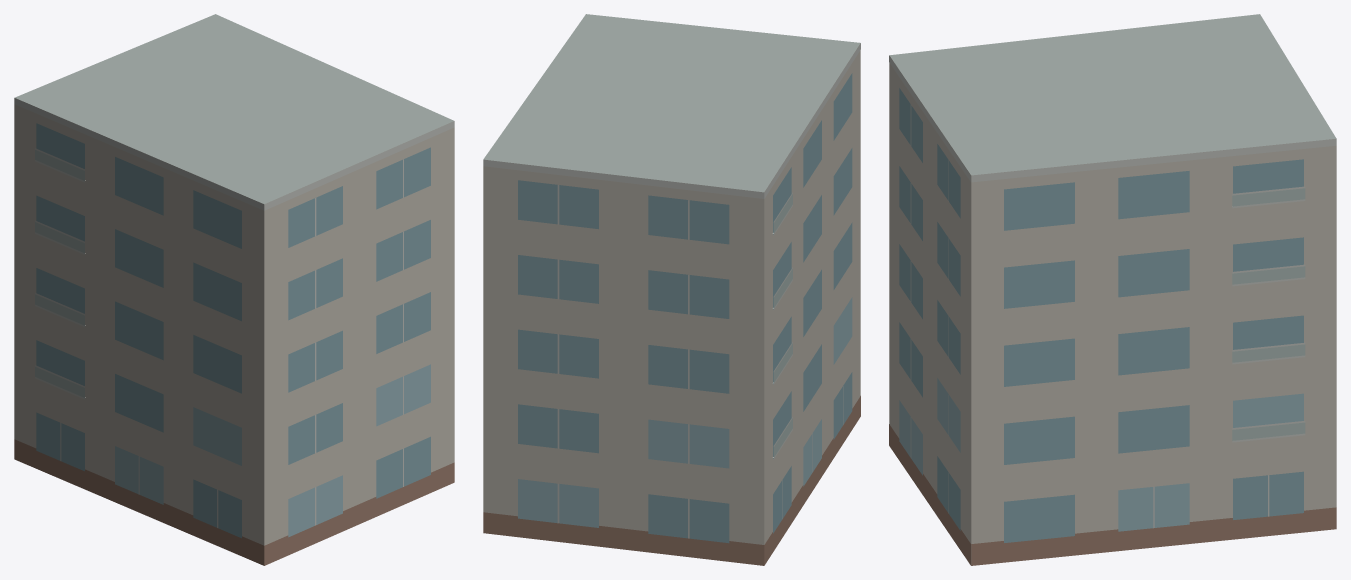
File: survey-upis-33000174.glb
3 views of the same model, side by side, from view 1: azimuth 30°, elevation 25°; view 2: azimuth 150°, elevation 25°; view 3: azimuth 270°, elevation 25° (orthographic). The views are drawn at different scales.
Visible parts, largest first — view 1: survey-upis-33000174.tmp; view 2: survey-upis-33000174.tmp; view 3: survey-upis-33000174.tmp.
Boxes of the visible parts, bbox=[...] form: survey-upis-33000174.tmp: bbox=[14, 14, 454, 565]; survey-upis-33000174.tmp: bbox=[483, 14, 860, 565]; survey-upis-33000174.tmp: bbox=[889, 14, 1336, 565].
Bounding box in the file's own units: 12.07 × 13.6 × 14.13.
